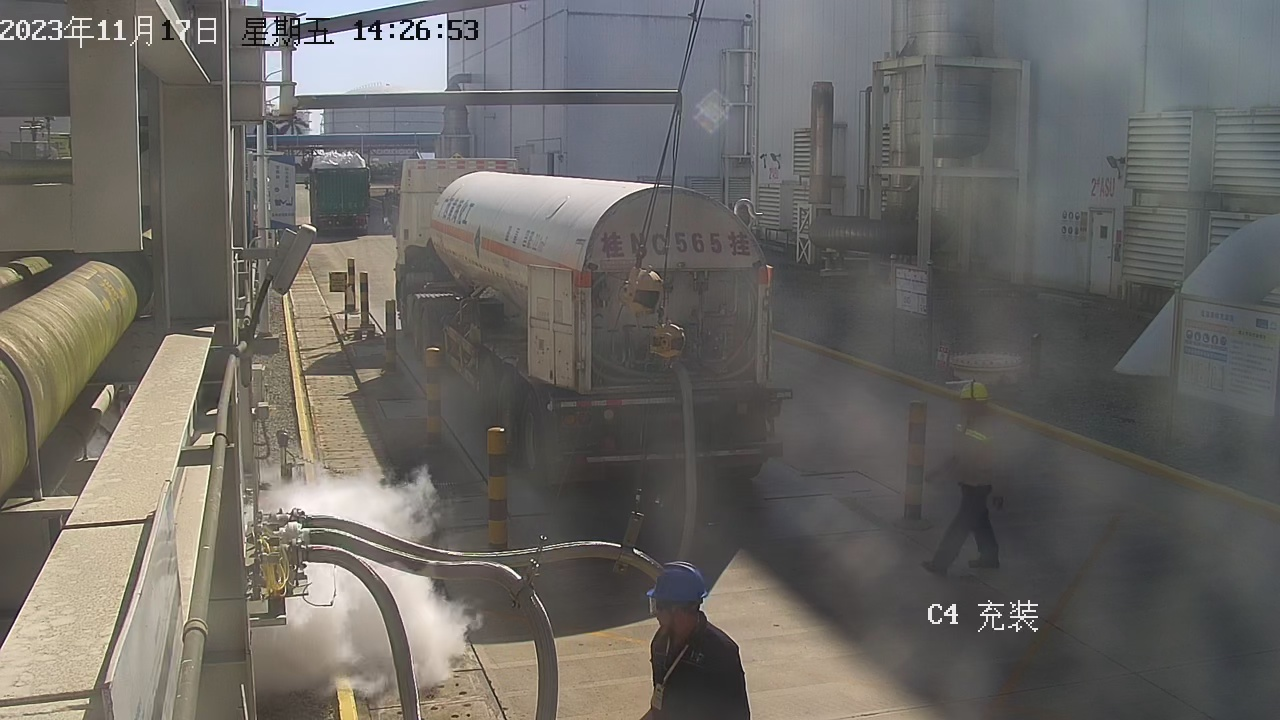Head_with_Helmet: (633, 558, 727, 635), (944, 372, 1000, 419)
Uniform: (918, 411, 1024, 574)
